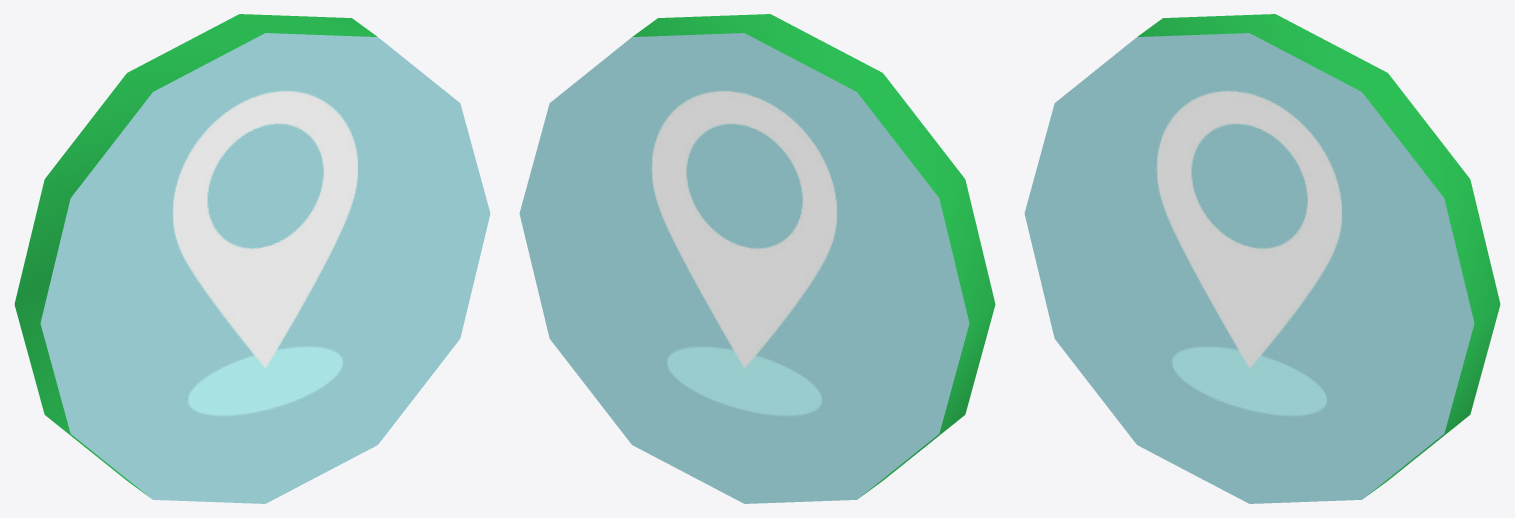
File: iconHome.glb
3 renders of one model, left to right at view 1: azimuth 30°, elevation 25°; view 2: azimuth 150°, elevation 25°; view 3: azimuth 330°, elevation 25°, orthographic.
Bounding box in the file's own units: 40 × 40 × 4.
2 materials, 1 textured.
